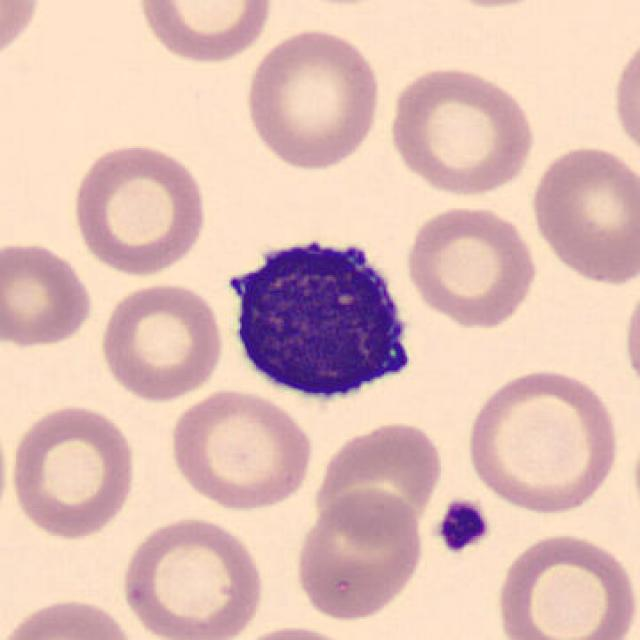Lymphocyte: (217, 222, 425, 411)
Platelets: (434, 498, 492, 556)
RBC: (460, 363, 622, 517), (240, 23, 384, 173), (384, 61, 539, 198), (68, 138, 210, 278), (5, 398, 140, 543), (118, 513, 268, 640), (166, 386, 316, 513), (289, 487, 426, 622), (402, 201, 540, 330), (309, 416, 448, 543), (96, 278, 226, 404), (526, 141, 638, 287), (492, 529, 638, 640), (0, 236, 96, 351), (132, 0, 278, 67), (0, 594, 142, 640), (608, 28, 640, 168), (0, 0, 46, 71), (217, 622, 373, 640), (620, 271, 640, 402), (417, 0, 565, 12), (0, 409, 11, 540)
